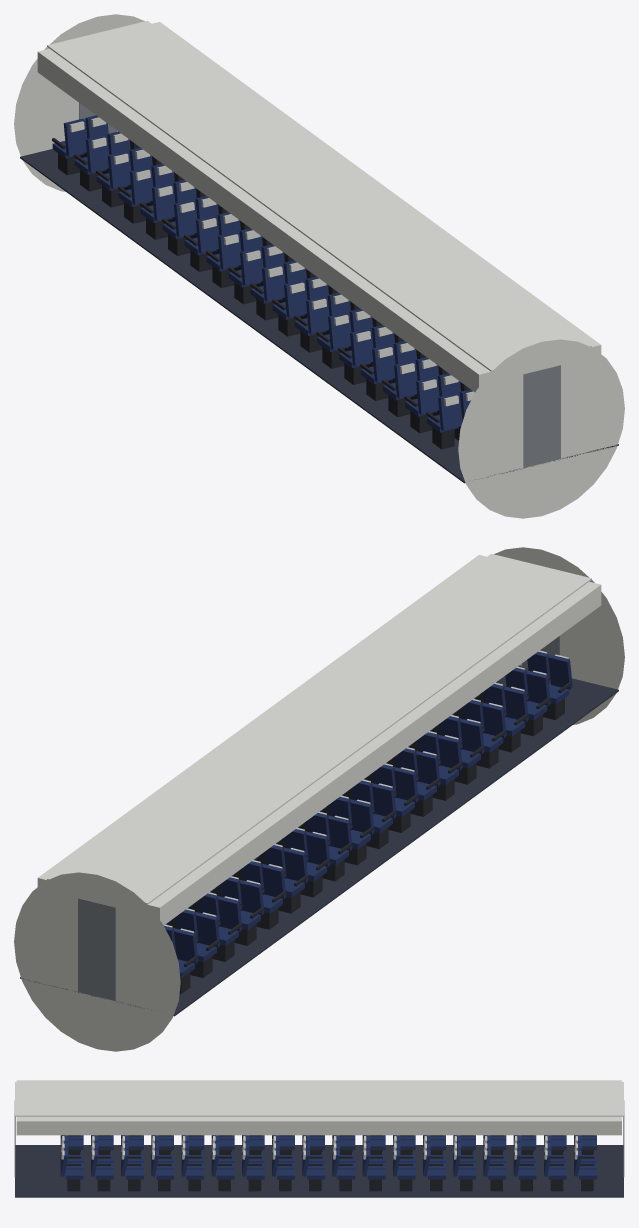
The model's file is lat_quad_regional_cabin.dae.
3 renders of one model, top to bottom at view 1: azimuth 30°, elevation 25°; view 2: azimuth 150°, elevation 25°; view 3: azimuth 270°, elevation 25°, orthographic. The views are drawn at different scales.
Visible parts, largest first — view 1: lat_quad_regional_cabin64; view 2: lat_quad_regional_cabin64; view 3: lat_quad_regional_cabin64.
Boxes of the visible parts, bbox=[...] form: lat_quad_regional_cabin64: bbox=[14, 14, 624, 518]; lat_quad_regional_cabin64: bbox=[14, 547, 624, 1051]; lat_quad_regional_cabin64: bbox=[14, 1080, 624, 1197].
Size of the model in its own units: 3.54 by 16.39 by 3.54.
